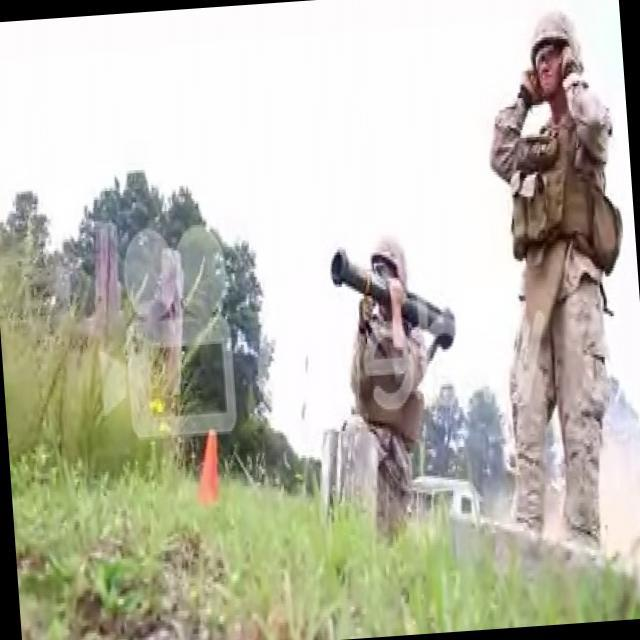rocket: (327, 236, 456, 359)
